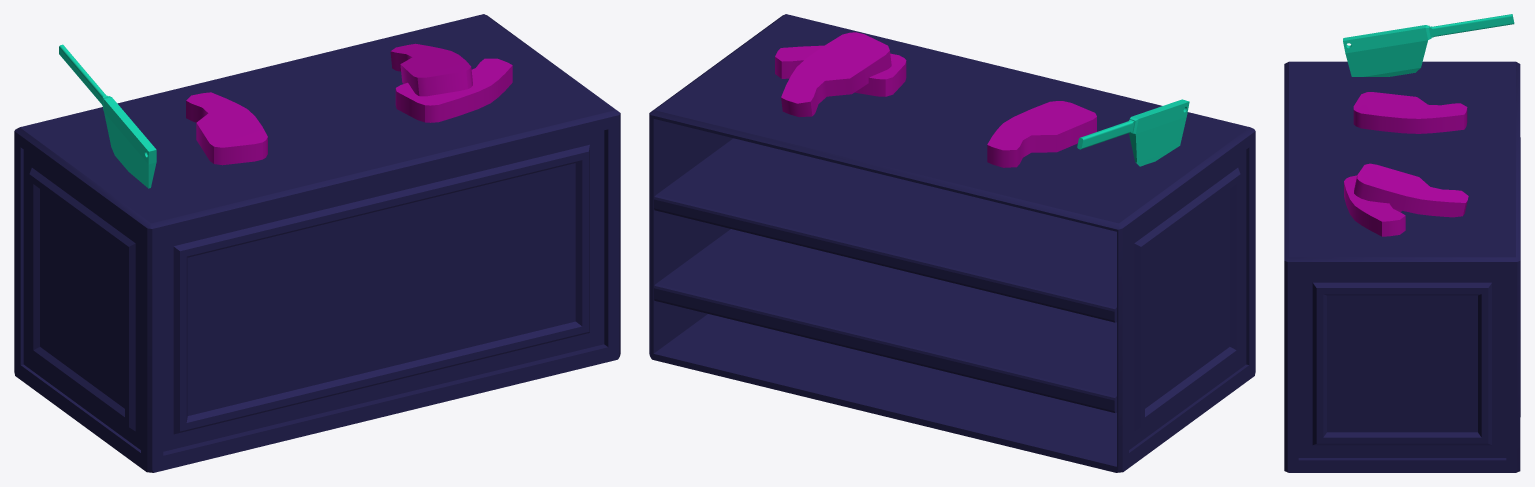
The model's file is Counter.fbx.
3 views of the same model, side by side, from view 1: azimuth 30°, elevation 25°; view 2: azimuth 150°, elevation 25°; view 3: azimuth 270°, elevation 25° (orthographic). The views are drawn at different scales.
Visible parts, largest first — view 1: Counter, MeatSlice, MeatSlice005, MeatSlice006, ButchersKnife; view 2: Counter, MeatSlice006, MeatSlice, ButchersKnife, MeatSlice005; view 3: Counter, ButchersKnife, MeatSlice, MeatSlice006, MeatSlice005.
Part boxes in pixels (bbox=[...]): Counter: bbox=[14, 14, 620, 472]; MeatSlice: bbox=[186, 92, 267, 165]; MeatSlice005: bbox=[395, 58, 512, 122]; MeatSlice006: bbox=[390, 43, 472, 96]; ButchersKnife: bbox=[59, 44, 156, 188]; Counter: bbox=[649, 14, 1255, 472]; MeatSlice006: bbox=[781, 32, 891, 117]; MeatSlice: bbox=[987, 101, 1096, 167]; ButchersKnife: bbox=[1077, 99, 1189, 166]; MeatSlice005: bbox=[775, 45, 906, 96]; Counter: bbox=[1284, 61, 1520, 472]; ButchersKnife: bbox=[1343, 14, 1514, 76]; MeatSlice: bbox=[1353, 92, 1467, 133]; MeatSlice006: bbox=[1354, 163, 1468, 217]; MeatSlice005: bbox=[1344, 175, 1405, 236].
Bounding box in the file's own units: 79.03 × 51.17 × 39.39.
